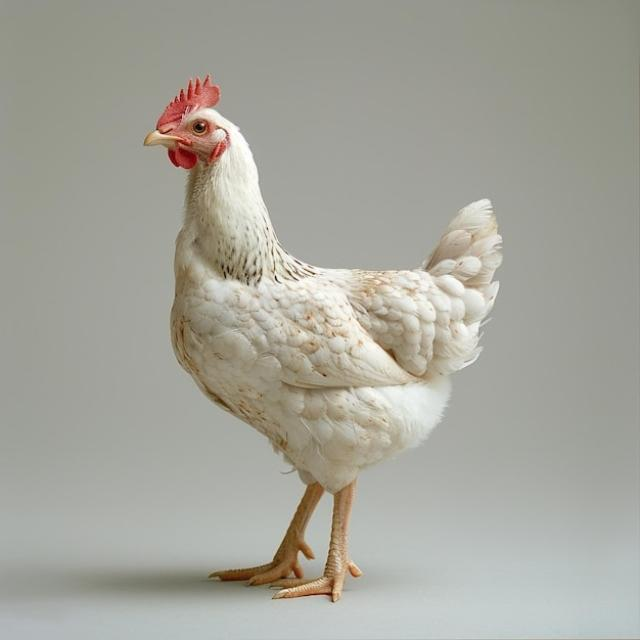Chicken: (142, 73, 503, 603)
